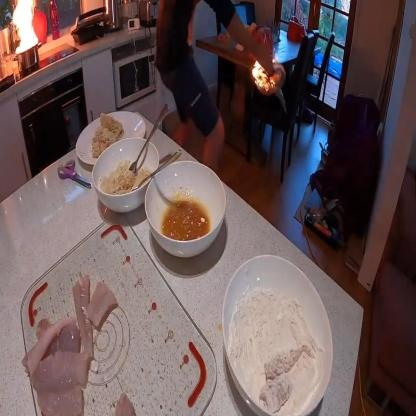fire: (7, 0, 42, 54), (249, 55, 280, 98)
